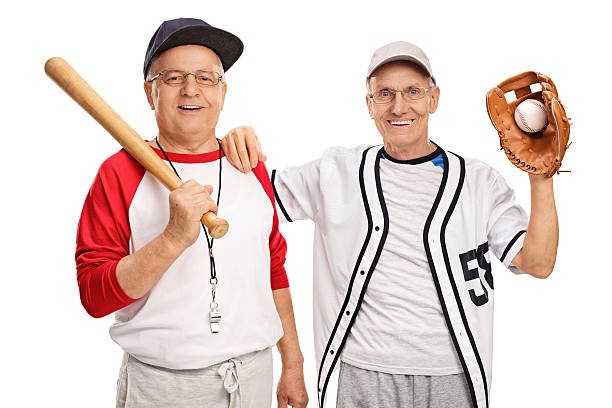bita: (41, 55, 232, 222)
